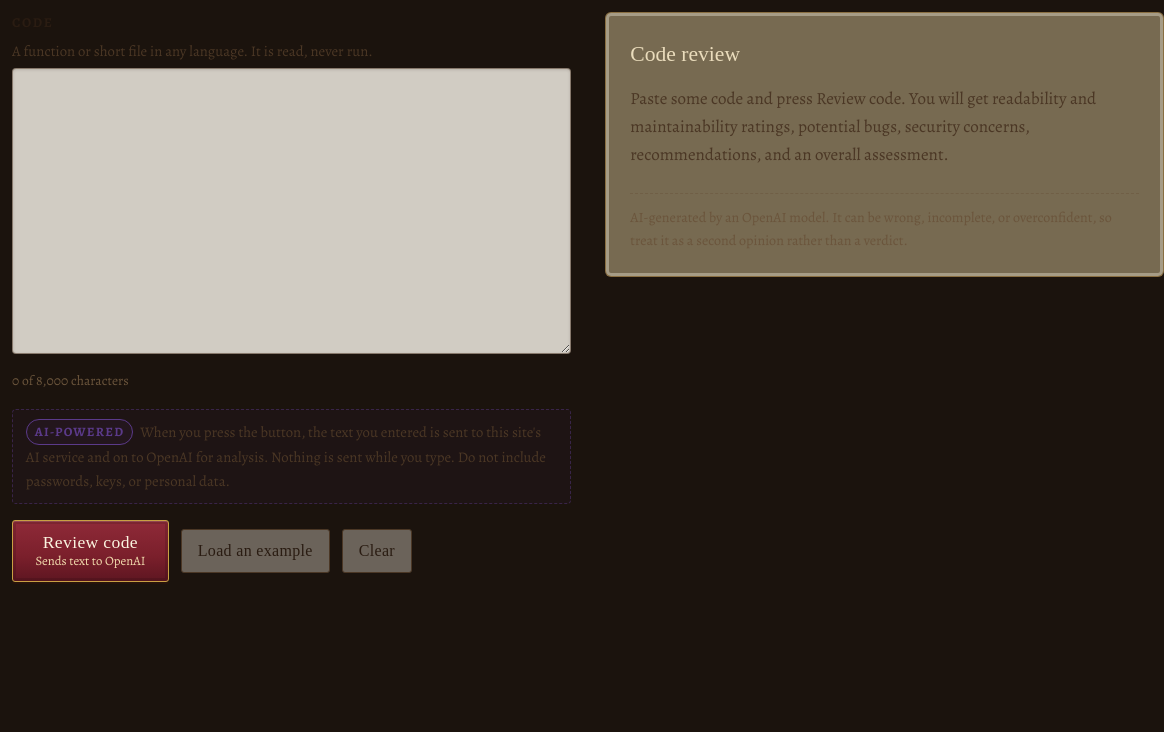
Test case: AI instruments: requests › Code Review Rater renders every review section
Type "const a = 1;" into the text box labelled "Code" at x=291, y=211, box [12,68,571,354]
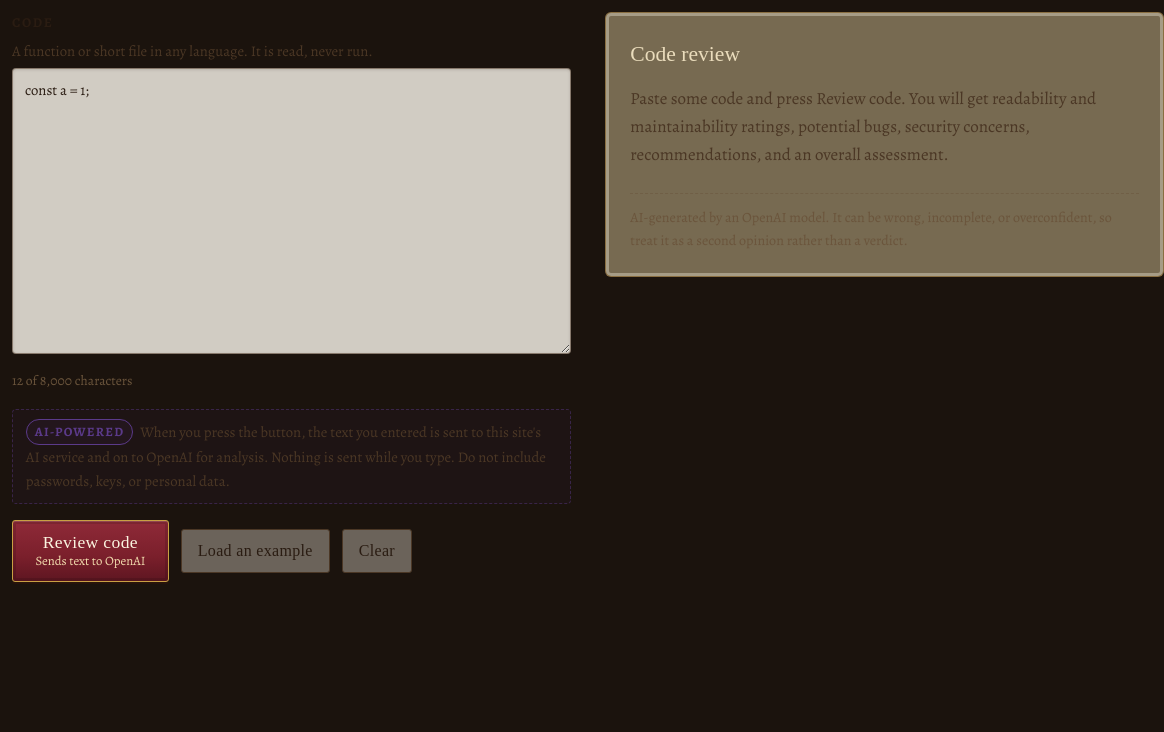
Click the button "Review code Sends text to OpenAI" at x=90, y=551, box [12,520,169,582]
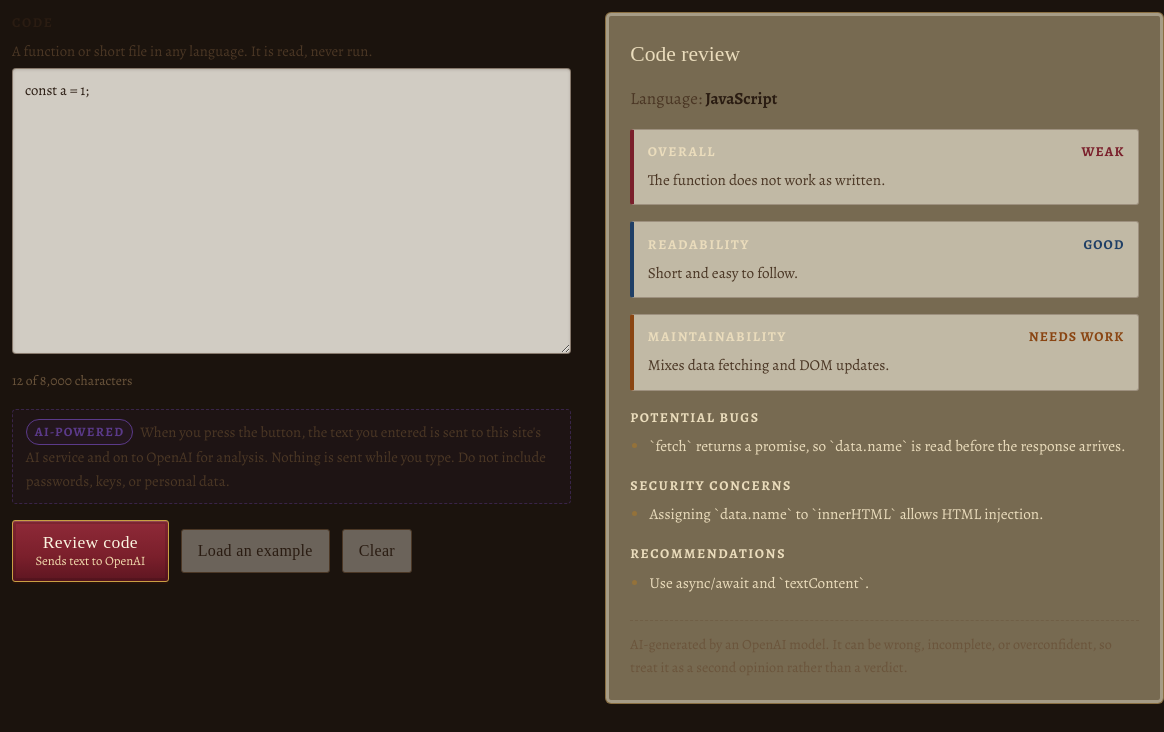
Check: the element with test id "pv-cr-result" shows "Overall", box [648,142,716,161]
Check: the element with test id "pv-cr-result" shows "Readability", box [648,234,750,254]
Check: the element with test id "pv-cr-result" shows "Maintainability", box [648,327,787,346]
